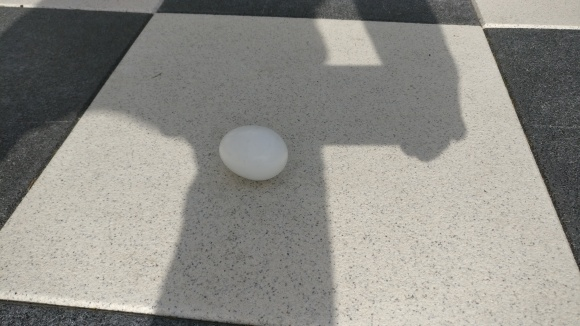egg: (217, 125, 289, 182)
